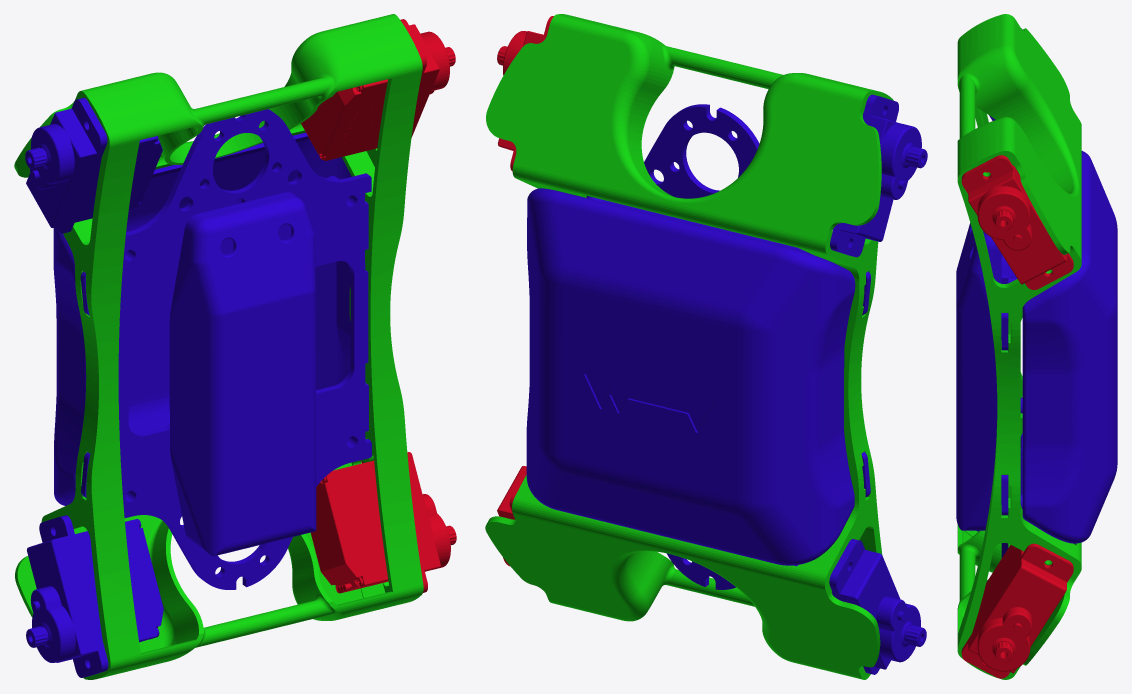
The model's file is BittleBodyMesh.fbx.
3 renders of one model, left to right at view 1: azimuth 30°, elevation 25°; view 2: azimuth 150°, elevation 25°; view 3: azimuth 270°, elevation 25°, orthographic. The views are drawn at different scales.
Visible parts, largest first — view 1: Biltle Body.000; view 2: Biltle Body.000; view 3: Biltle Body.000.
Boxes of the visible parts, box(x1,y1,x2,y2) form: Biltle Body.000: box(14, 14, 456, 679); Biltle Body.000: box(485, 14, 927, 679); Biltle Body.000: box(956, 14, 1117, 679).
Size of the model in its own units: 0.9726 by 1.29 by 0.357.
